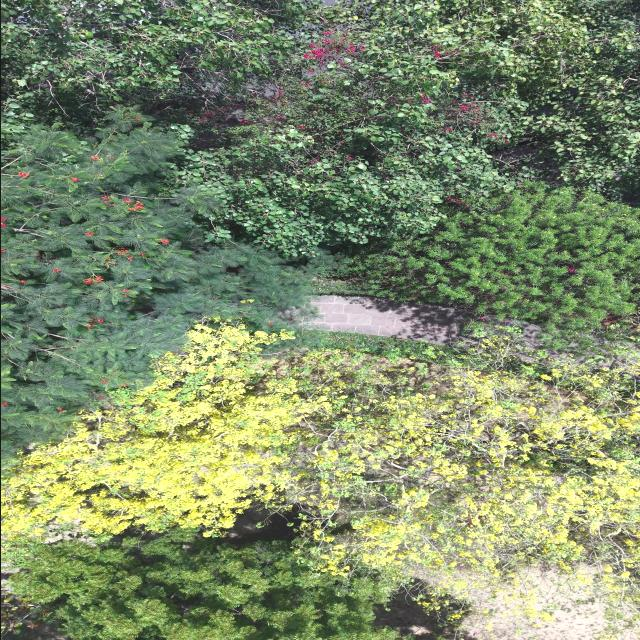DRY_AREA: (422, 566, 639, 639), (458, 566, 639, 639), (456, 566, 614, 639), (462, 573, 606, 639), (302, 295, 475, 344), (462, 600, 606, 639), (21, 624, 70, 639)
PATHWAYS: (300, 295, 475, 344), (302, 295, 472, 344)
VEGETATION_TREE: (1, 0, 639, 639), (1, 324, 639, 603), (4, 0, 638, 254), (1, 108, 335, 460), (177, 0, 638, 254), (1, 324, 335, 534), (319, 183, 639, 345), (12, 537, 399, 639), (1, 0, 303, 123), (1, 594, 61, 639)
